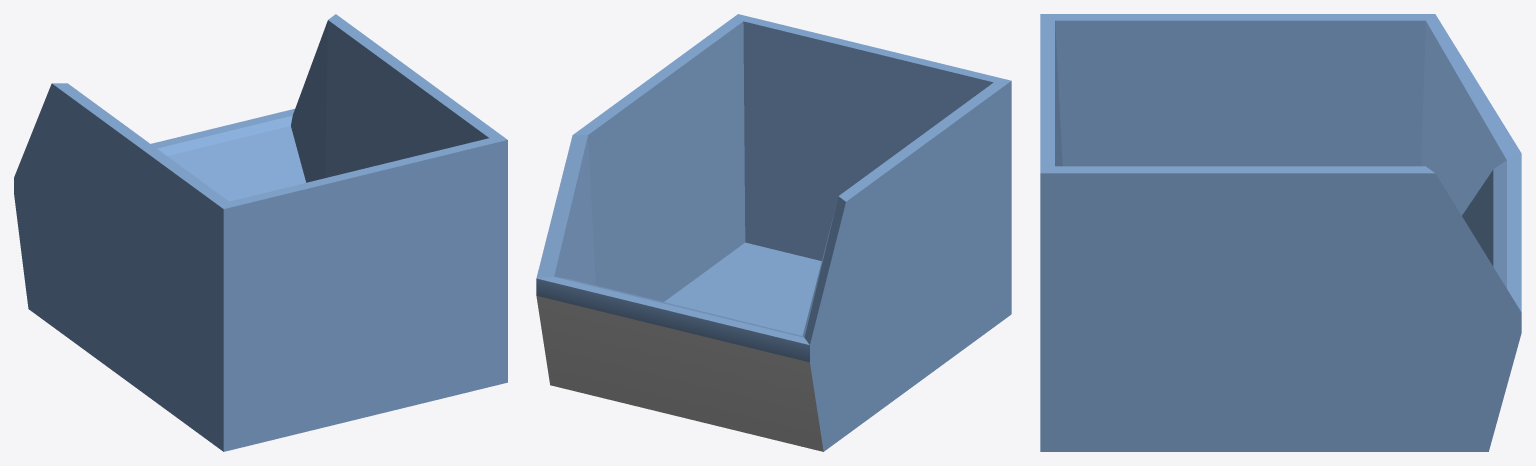
The model's file is PlasticContainerBlue.fbx.
3 renders of one model, left to right at view 1: azimuth 30°, elevation 25°; view 2: azimuth 150°, elevation 25°; view 3: azimuth 270°, elevation 25°, orthographic. The views are drawn at different scales.
Parts seen in each view (by area): view 1: pCube262; view 2: pCube262; view 3: pCube262.
Boxes of the visible parts, x1=… form: pCube262: x1=14, y1=14, x2=507, y2=451; pCube262: x1=536, y1=14, x2=1011, y2=451; pCube262: x1=1040, y1=14, x2=1521, y2=451.
Bounding box in the file's own units: 24.09 × 19.67 × 30.78.
